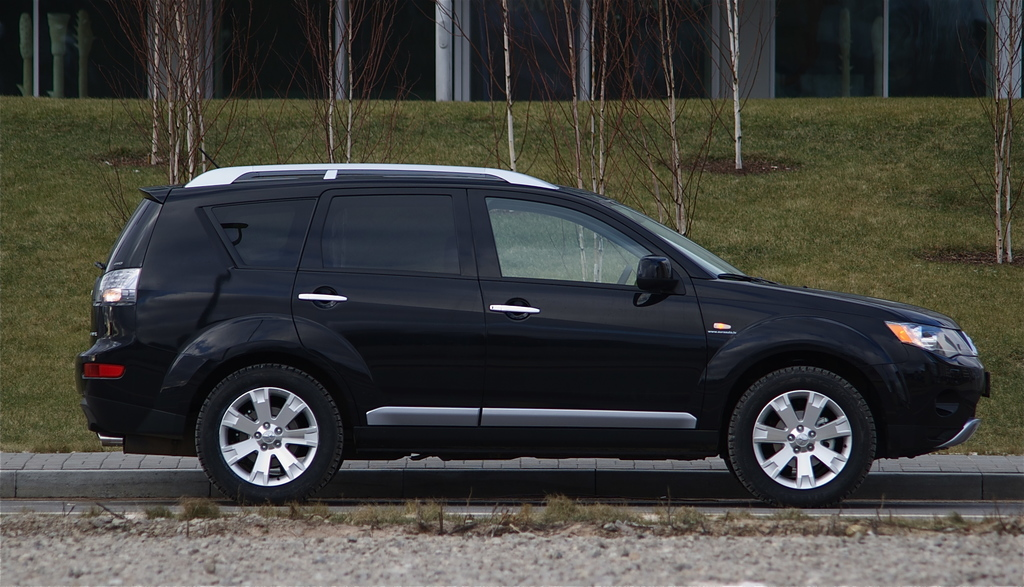Car: (72, 147, 987, 505)
